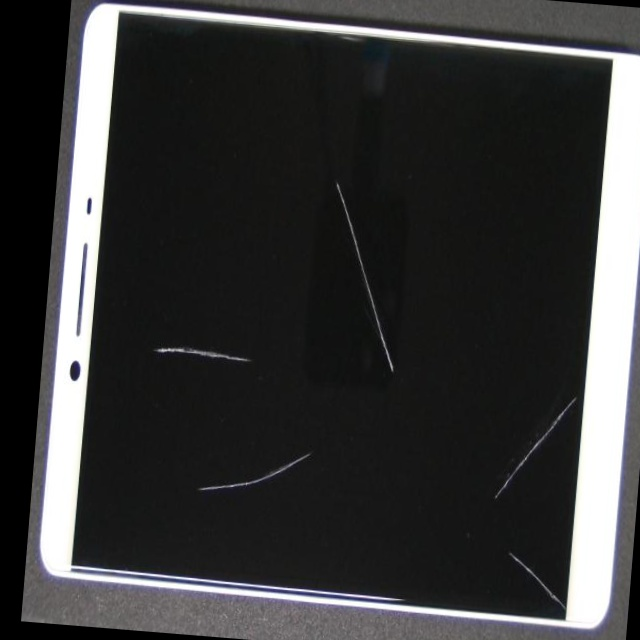scratch: (221, 192, 420, 640), (177, 90, 465, 328), (197, 143, 335, 516)
